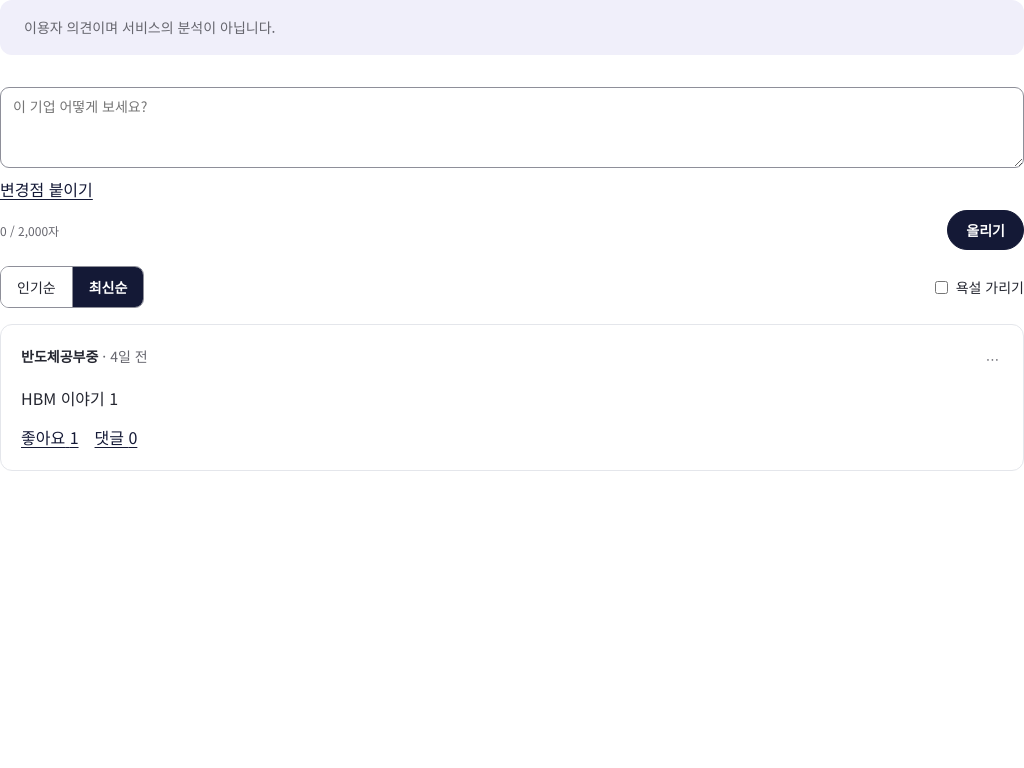
Test: 커뮤니티 탭 › 로그인하지 않으면 읽기만 되고, 올리기·좋아요·신고를 누르면 로그인 안내가 뜬다
Check: the text "HBM 이야기 1" is shown, box [21, 386, 118, 410]
In the text box named "글쓰기": (512, 128) [0, 87, 1023, 168], type "의견"
Click the button "올리기": (986, 230) [947, 210, 1023, 250]
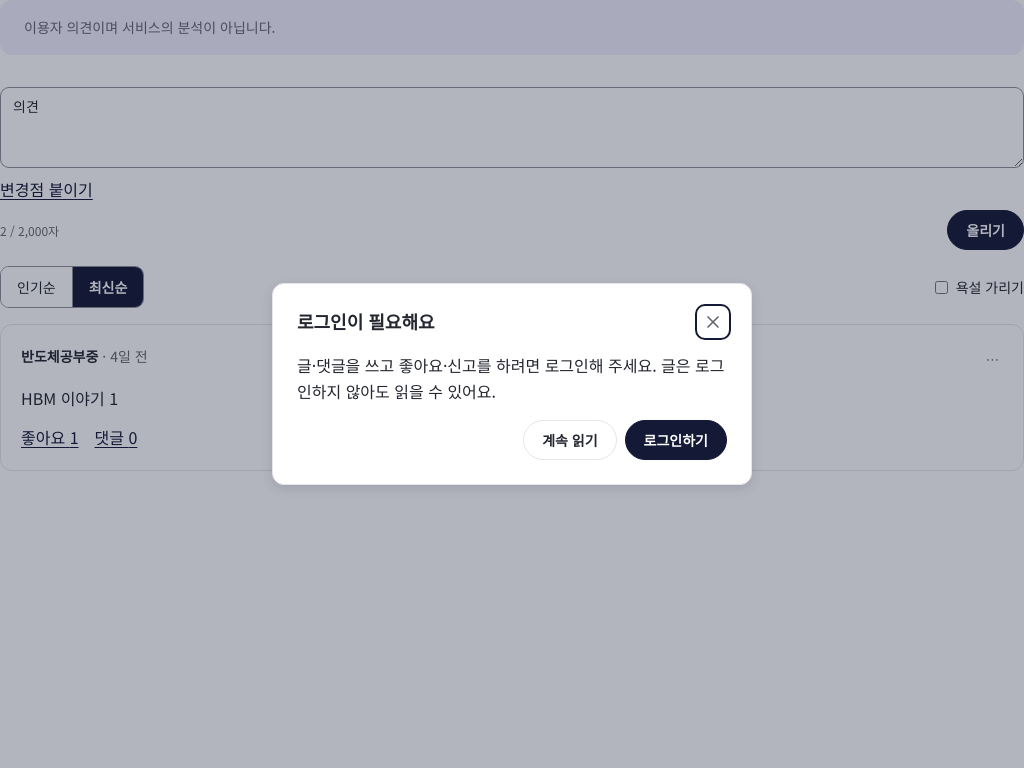
Check: the dialog "로그인이 필요해요" is shown, box [272, 283, 752, 485]
Click the button "계속 읽기": (570, 440) [523, 420, 617, 460]
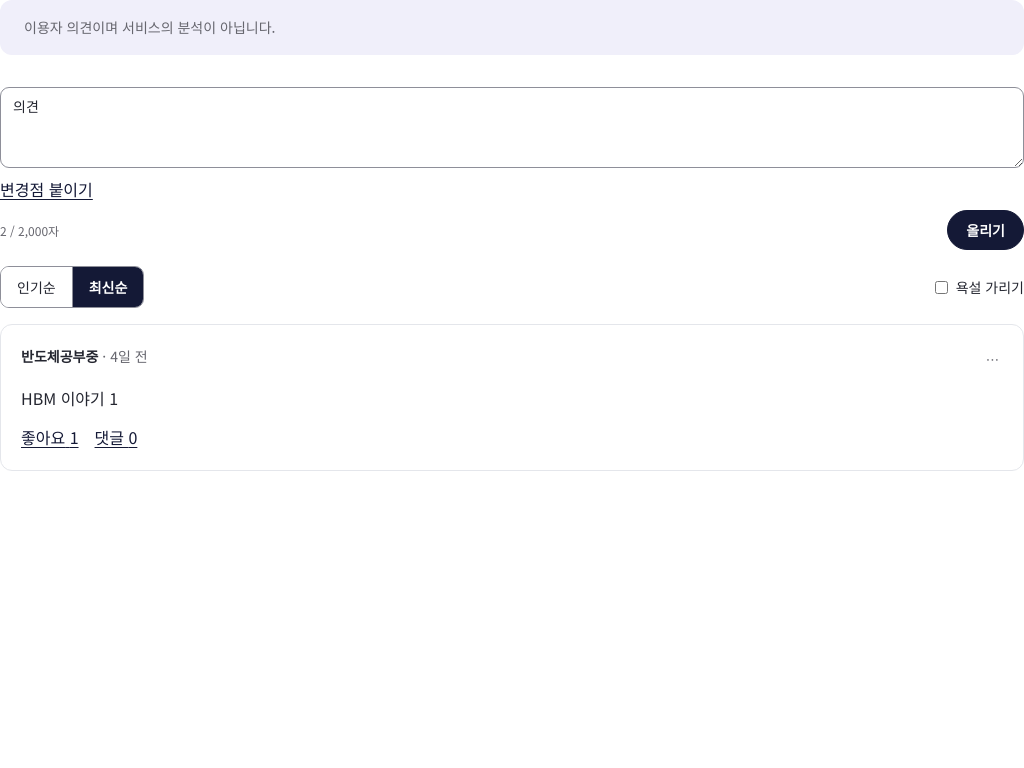
Click the button "좋아요 1": (50, 437) [21, 424, 78, 450]
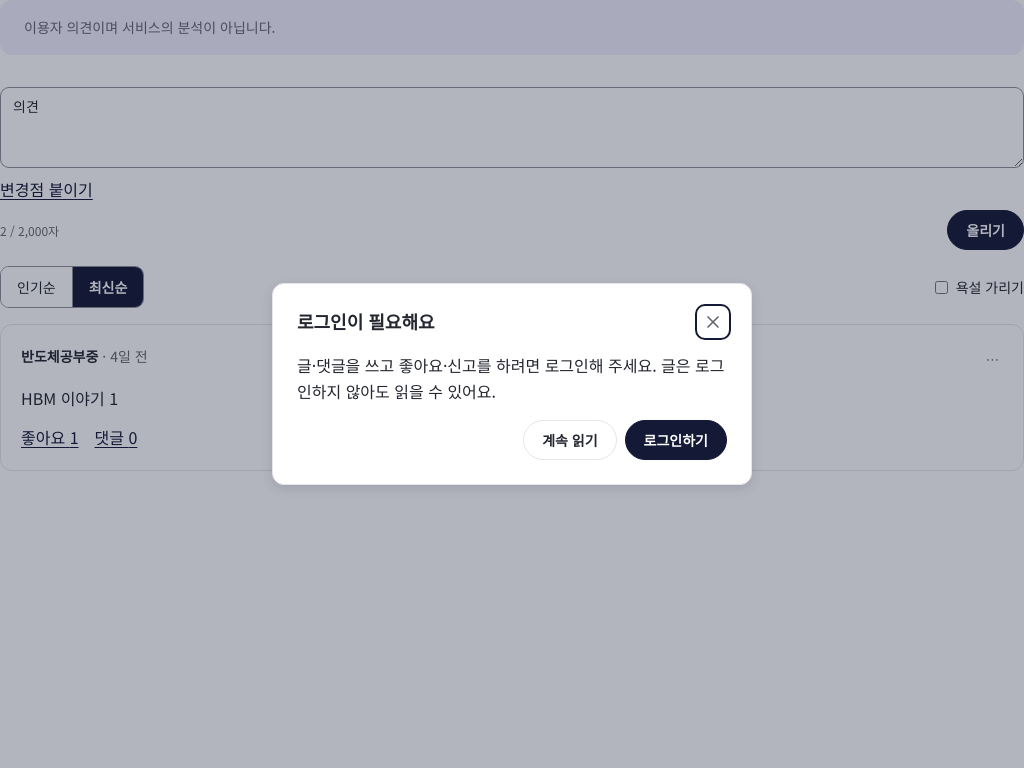
Check: the dialog "로그인이 필요해요" is shown, box [272, 283, 752, 485]
Click the button "계속 읽기": (570, 440) [523, 420, 617, 460]
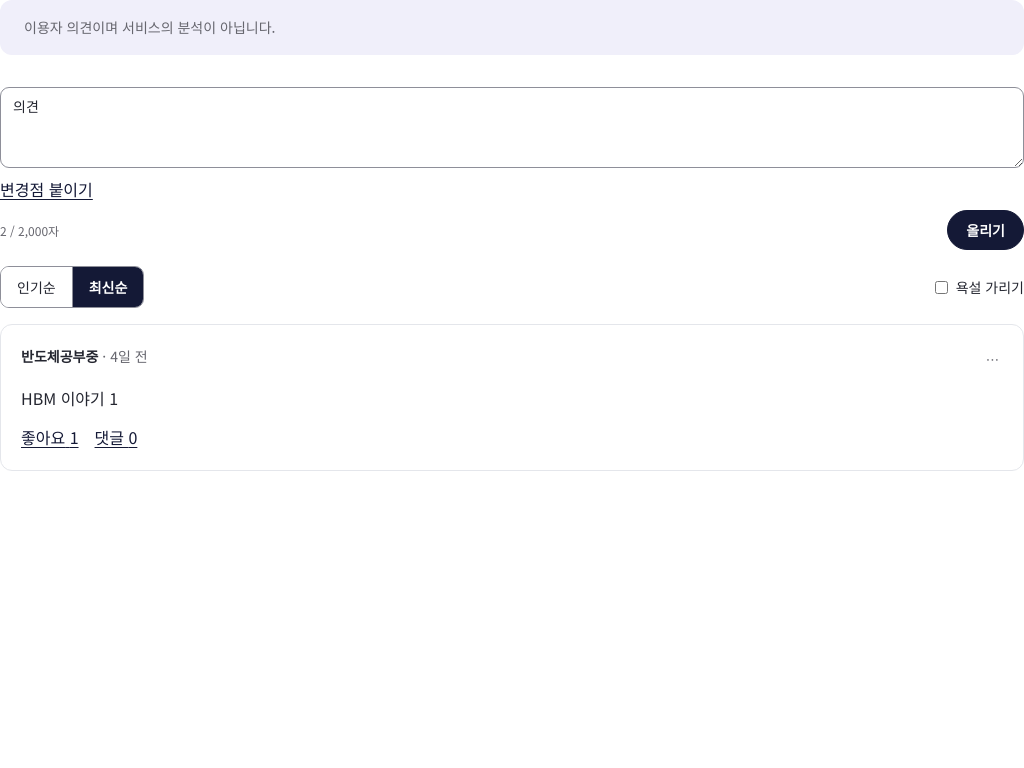
Click the button named "반도체공부중님의 글 메뉴": (992, 360) [982, 346, 1003, 374]
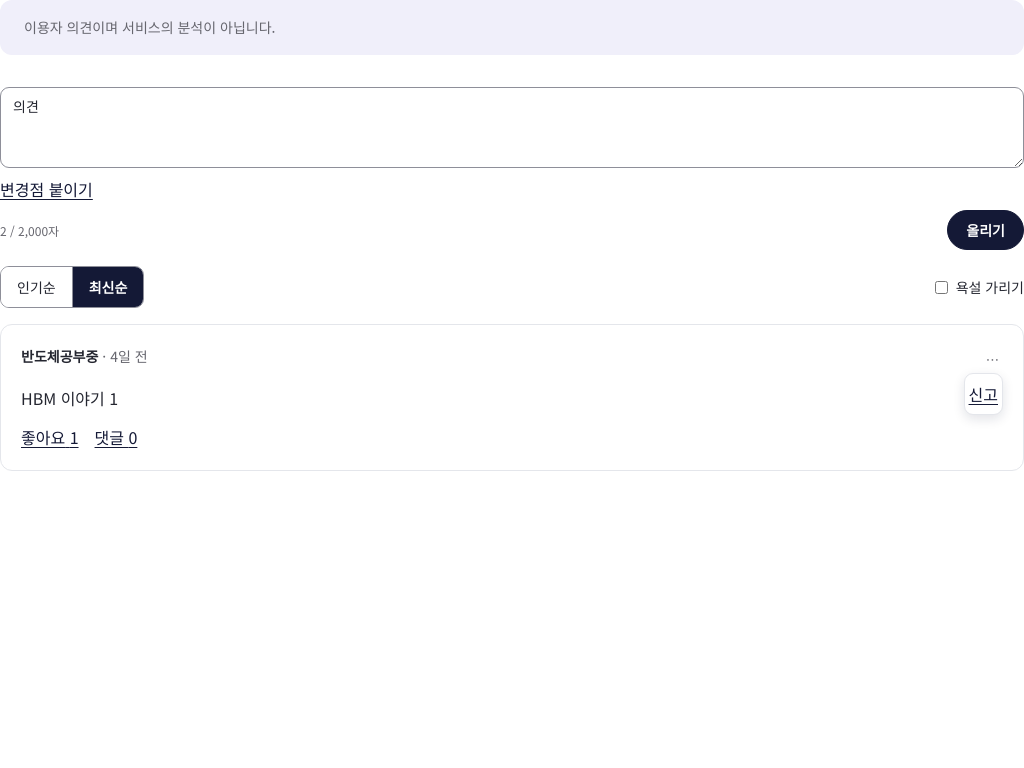
Click the button "신고": (983, 394) [968, 378, 998, 410]
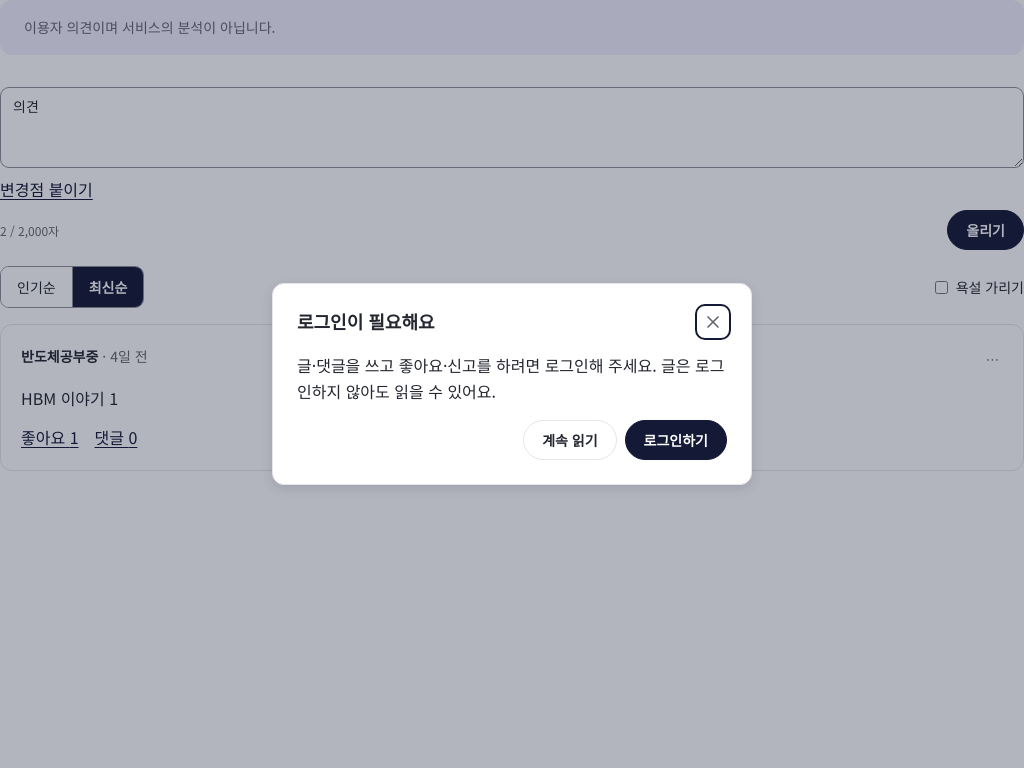
Check: the dialog "로그인이 필요해요" is shown, box [272, 283, 752, 485]
